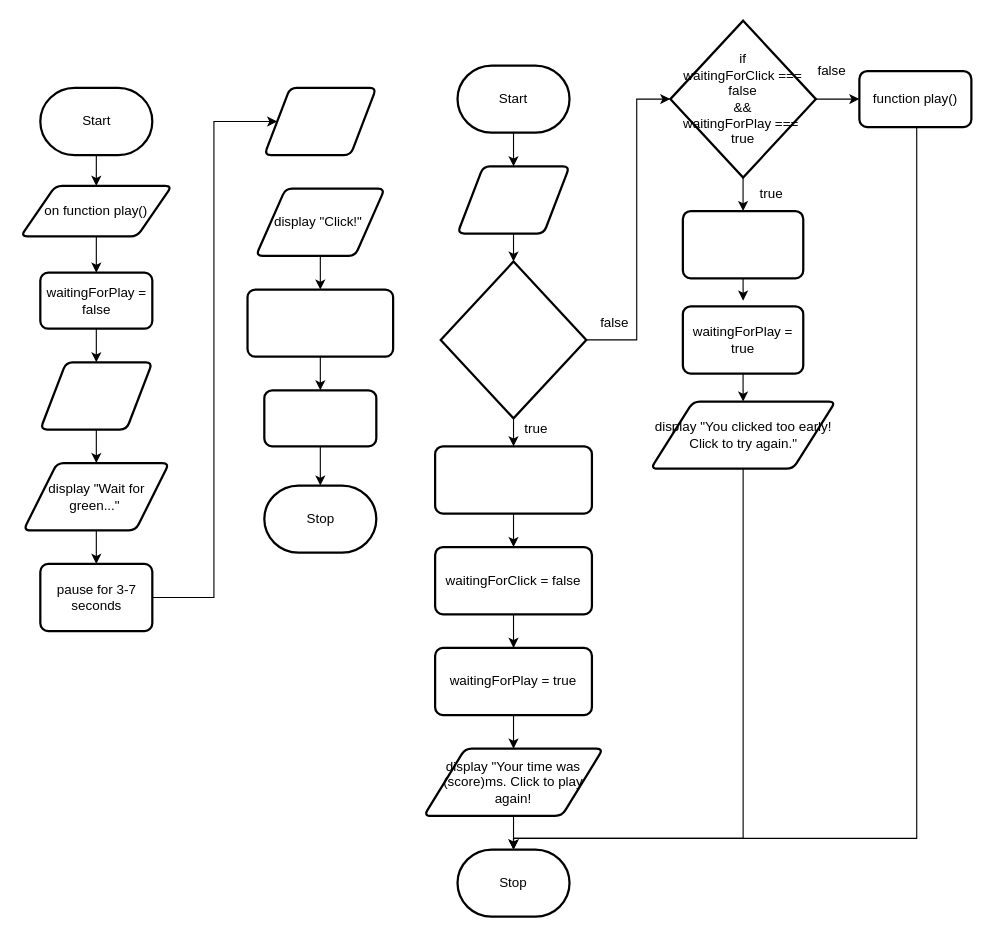
Image size: 991x936. Some labels were removed from this diagram. The centre of each missing label's shape, as x and y in pixels:
"cancel color switch timeout" goes at (x=742, y=244).
"if waitingForClick === true" goes at (x=513, y=339).
"let msSinceColorSwitch = Date.now()" goes at (x=320, y=322).
"make background green" goes at (x=320, y=121).
"make background red" goes at (x=96, y=395).
"on click" goes at (x=513, y=199).
"score = Date.now() - msSinceColorSwitch" goes at (x=512, y=479).
"waitingForClick = true" goes at (x=320, y=418).
